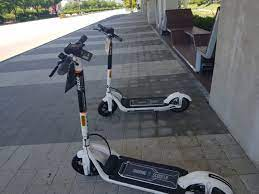kick_board: (93, 23, 190, 114)
kick_body: (125, 96, 165, 110)
kick_handler: (49, 35, 87, 79), (93, 24, 123, 41)
kick_neck: (75, 67, 90, 147), (107, 40, 111, 89)
kick_wheel: (72, 149, 102, 175), (166, 92, 190, 112), (98, 96, 117, 115)
